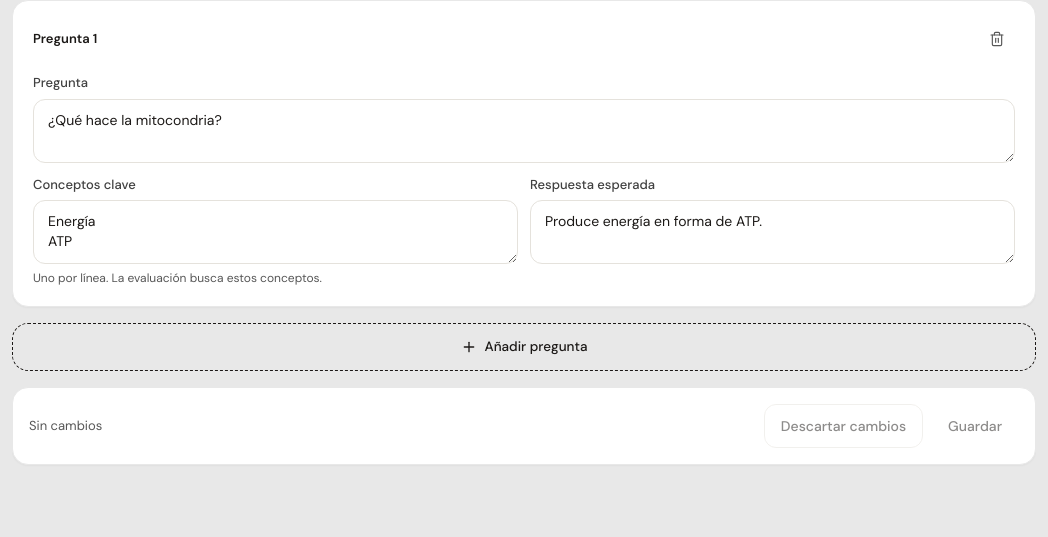
Scenario: RecallQuestionsEditor › explains a RECALL_QUESTION_CHANGED refusal
Step 1. Replace the text in the text box labelled "Pregunta" with "¿Nueva?" → [524, 130], box [33,98,1015,162]
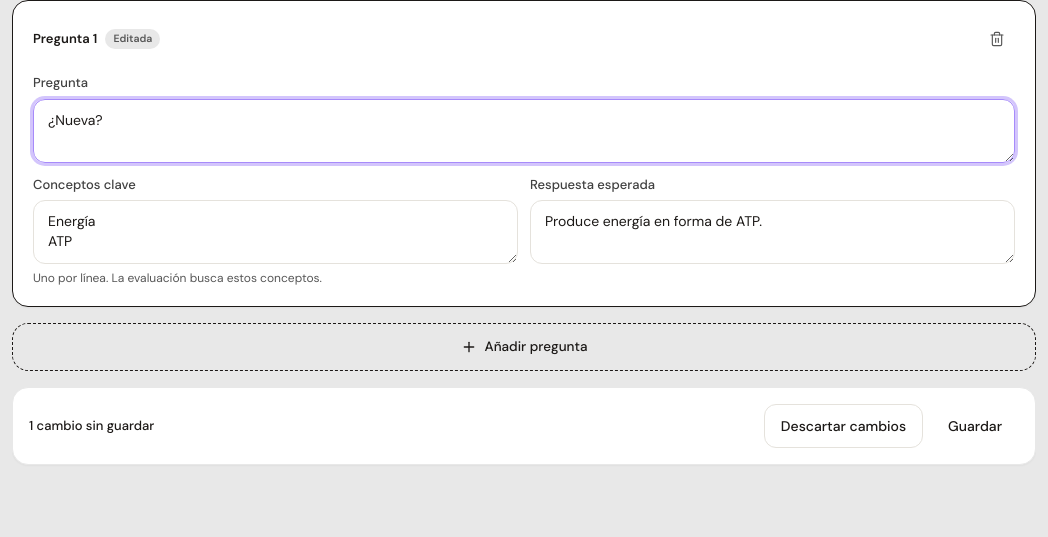
Step 2. Click the button "Guardar" → [975, 426], box [931,404,1019,448]
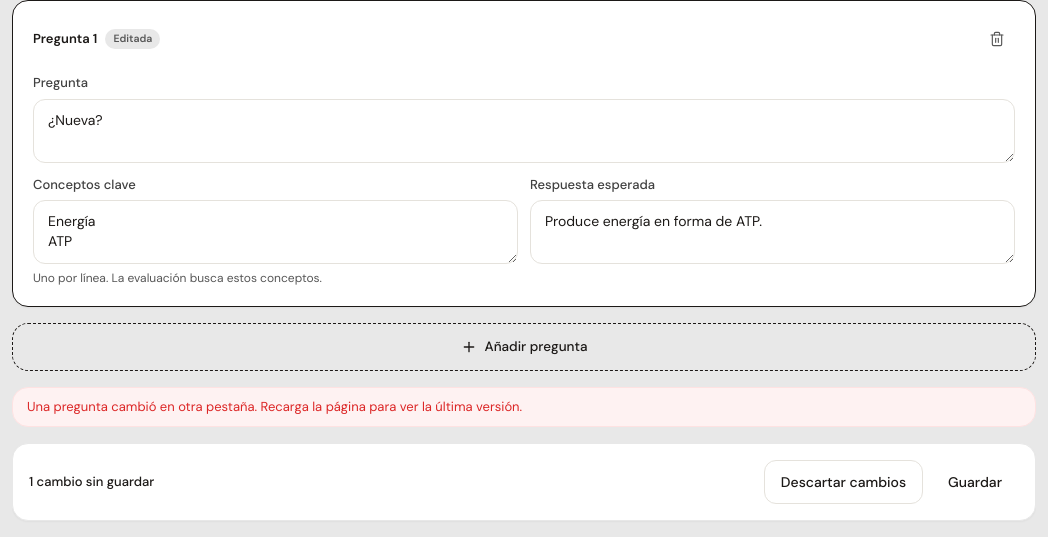
Result: the message shows "cambió en otra pestaña" at [27,398,522,415]
